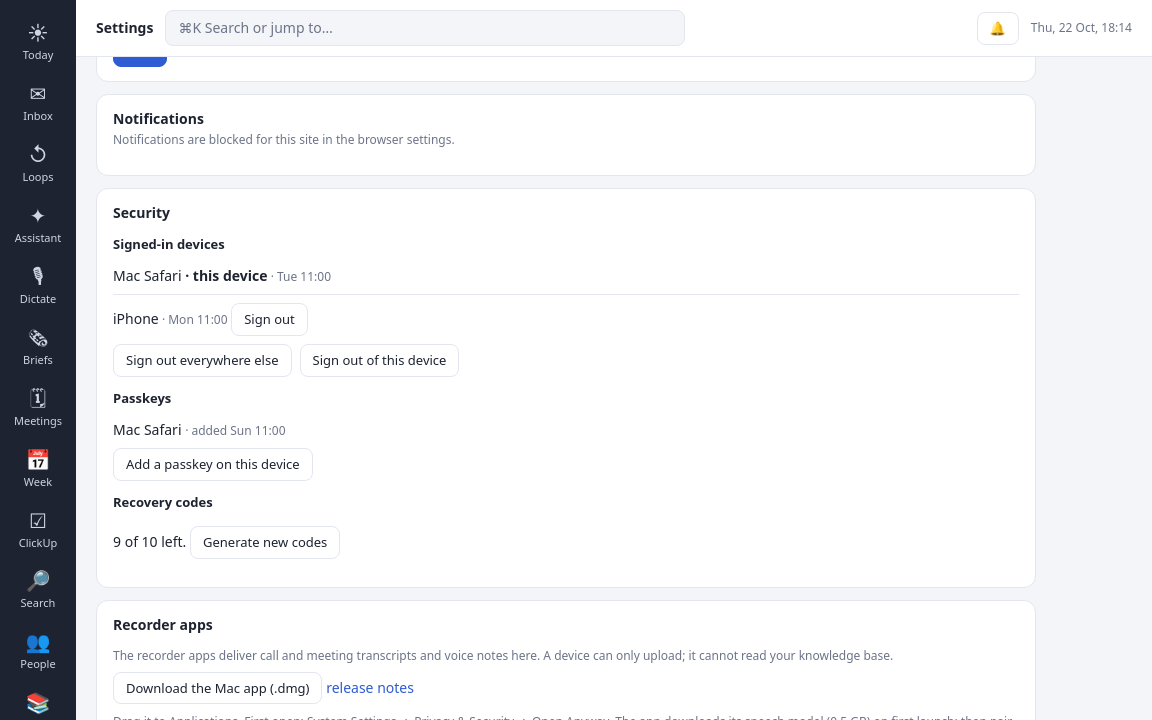
Test: sign out everywhere else, and new recovery codes are shown once
This screenshot has width=1152, height=720.
(page scrolled)
Check: the text "· this device" is shown, box [182,266,268,285]
Check: the text "9 of 10 left. Generate new codes" is shown, box [113,526,340,558]
Click the button "Sign out everywhere else".
click(202, 360)  # box [113,344,292,377]
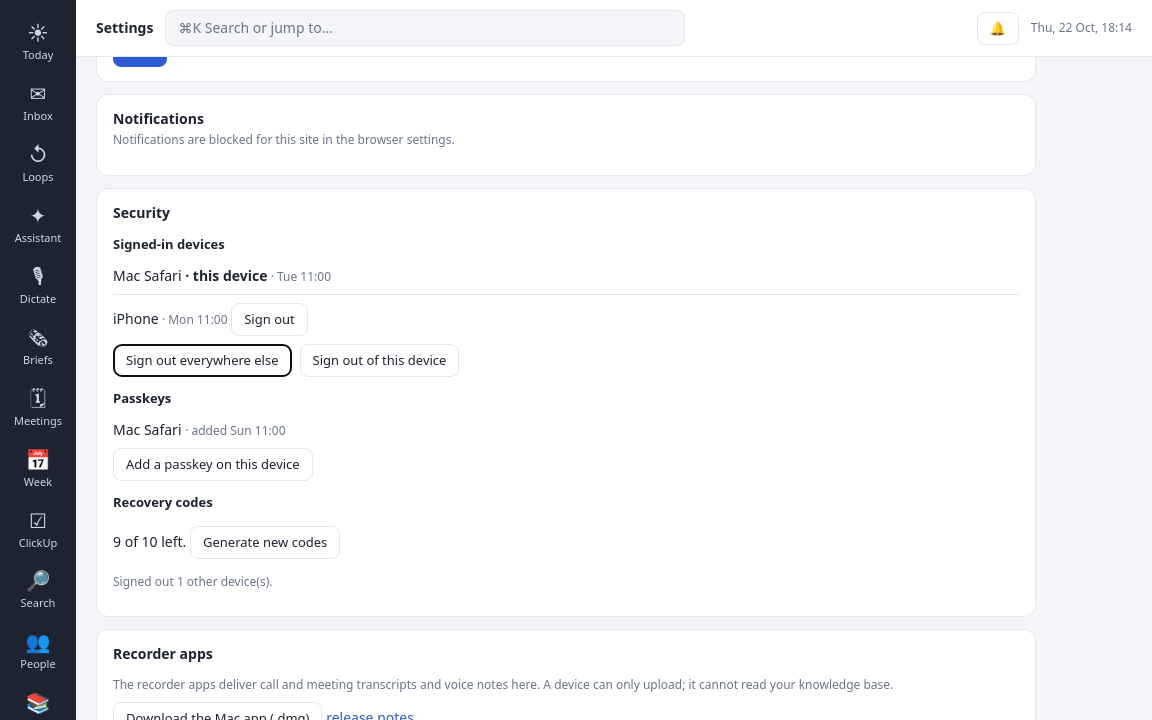
Check: the text "Signed out 1 other device(s)." is shown, box [113,572,272,590]
Click the button "Generate new codes".
click(265, 542)  # box [190,526,340,558]
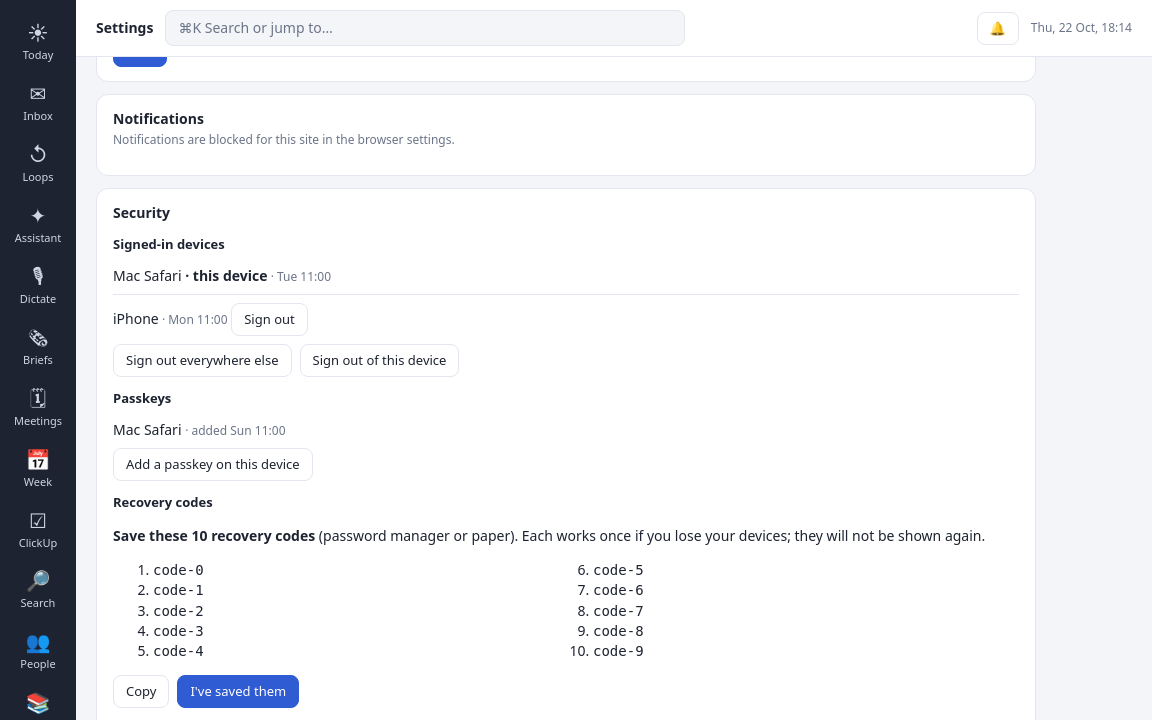
Check: the text "code-9" is shown, box [593,643,644,659]
Click the button "I've saved them".
click(238, 692)  # box [178,676,299,708]
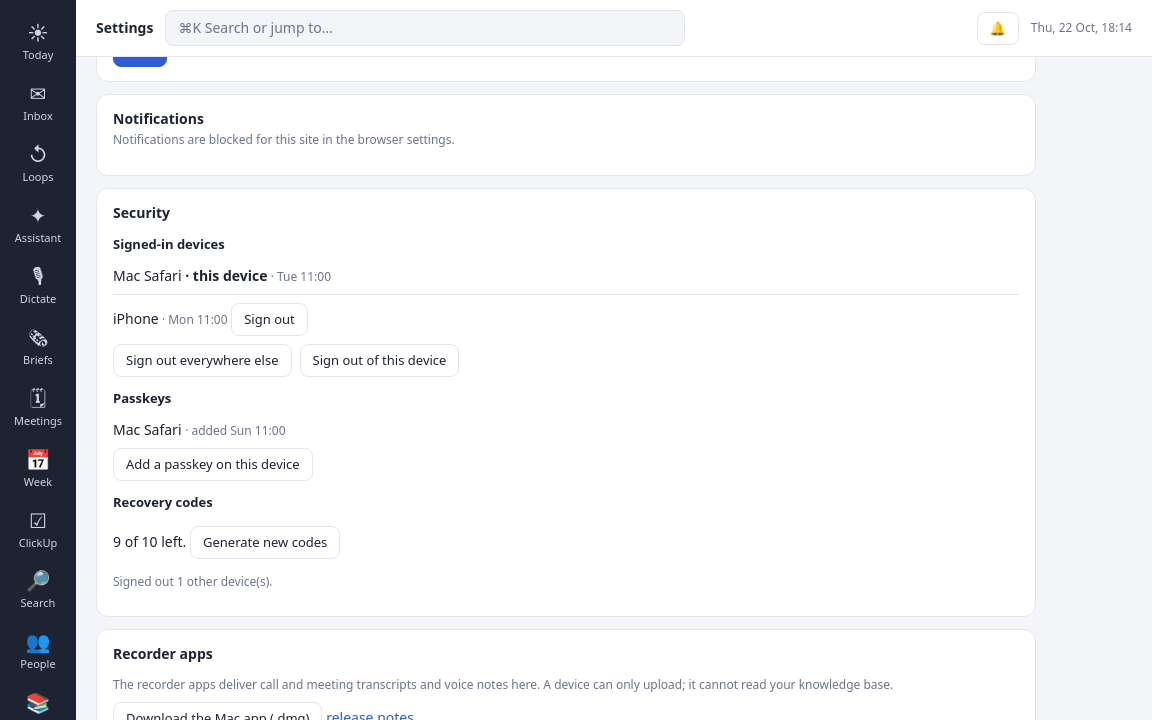
Check: the text "code-9" is gone
